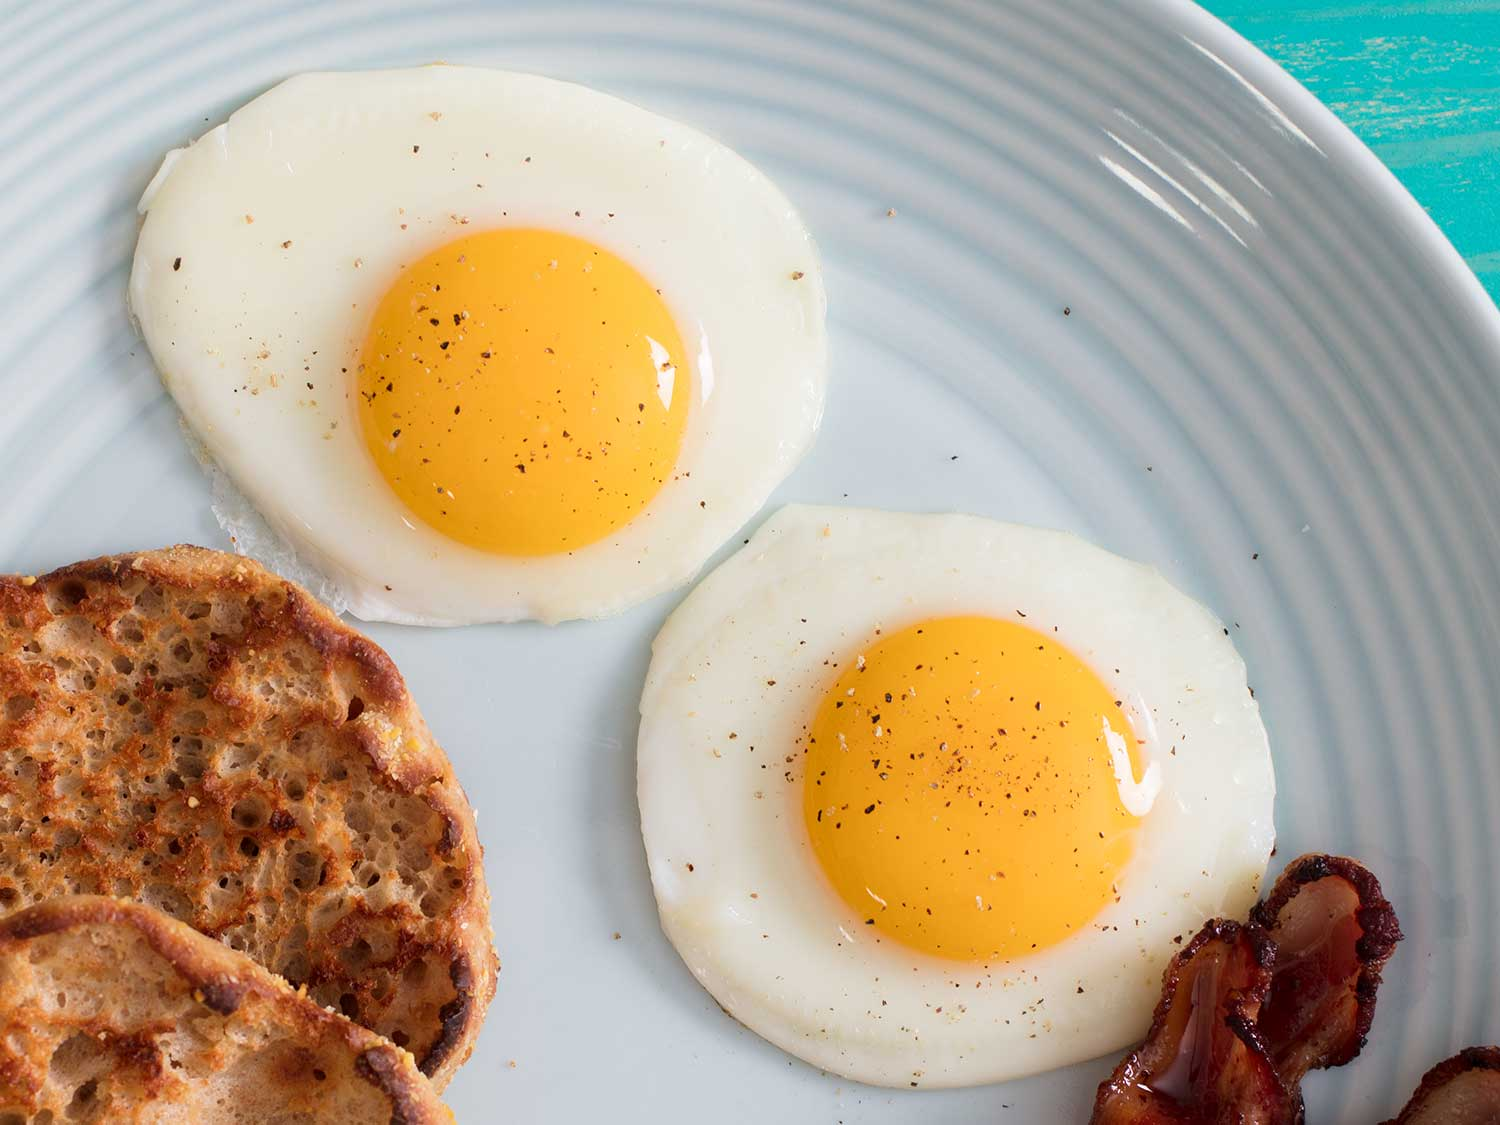fried egg: (195, 112, 699, 558), (722, 565, 1207, 969)
slice of bread: (11, 573, 426, 1100)
